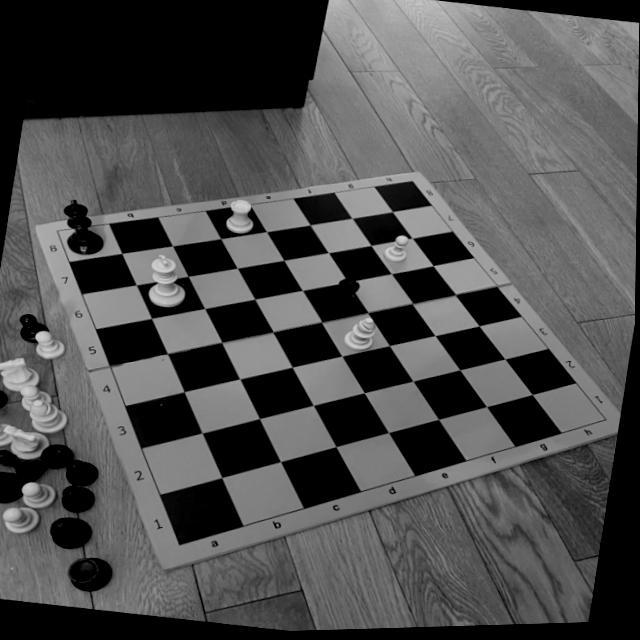chess-table-corners: (593, 414, 614, 430), (52, 228, 68, 238), (404, 182, 420, 192), (176, 540, 188, 552)
